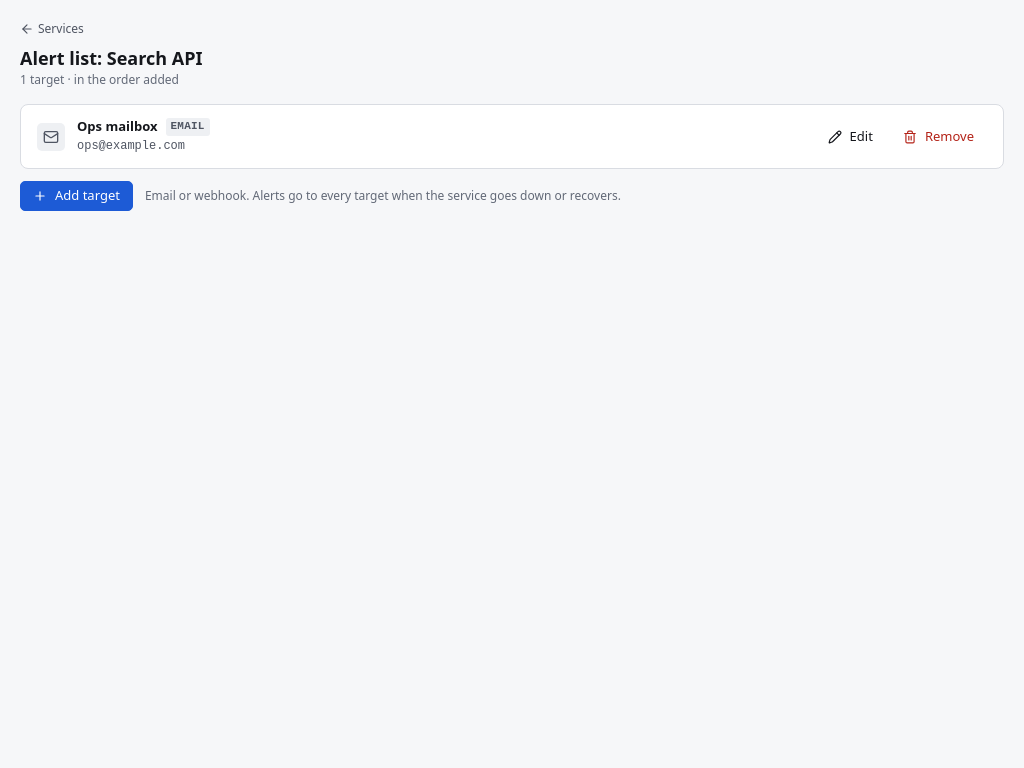
removing a target › after a 204 › shows the empty state and focuses its Add target when the only target goes
The width and height of the screenshot is (1024, 768).
Expected: the list named "Notification targets" is shown, [20,104,1004,169]
Click the button with aria-label "Remove Ops mailbox": click(938, 136) [890,122,987,152]
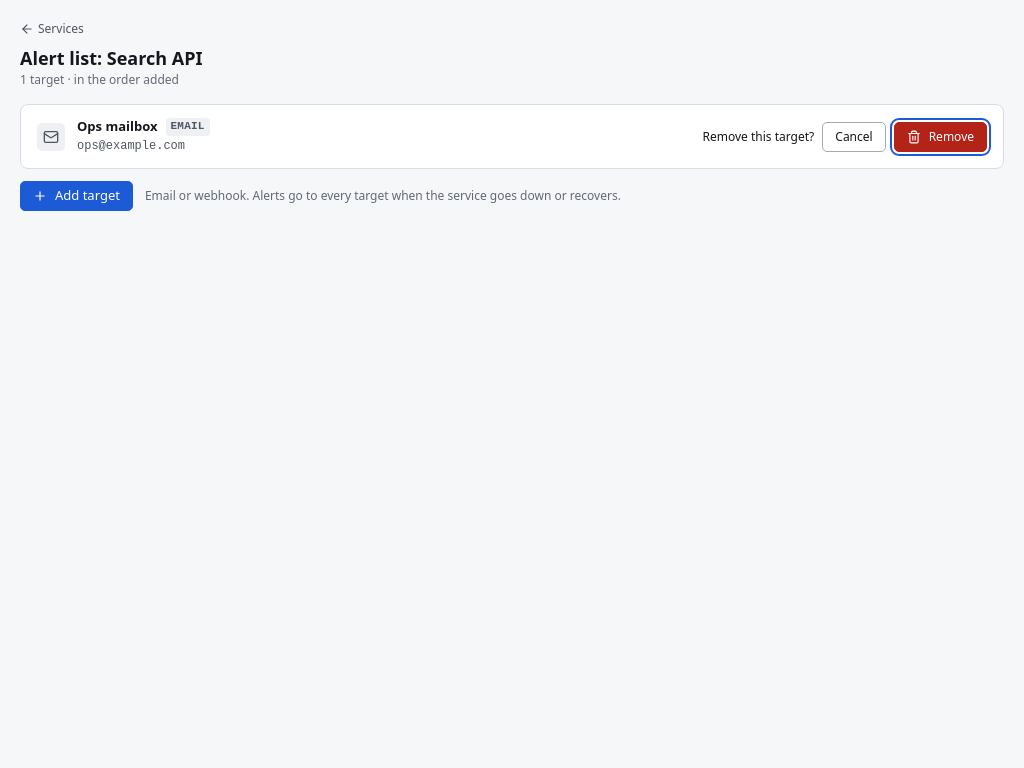
Click the button "Remove": click(940, 136) [894,122,987,152]
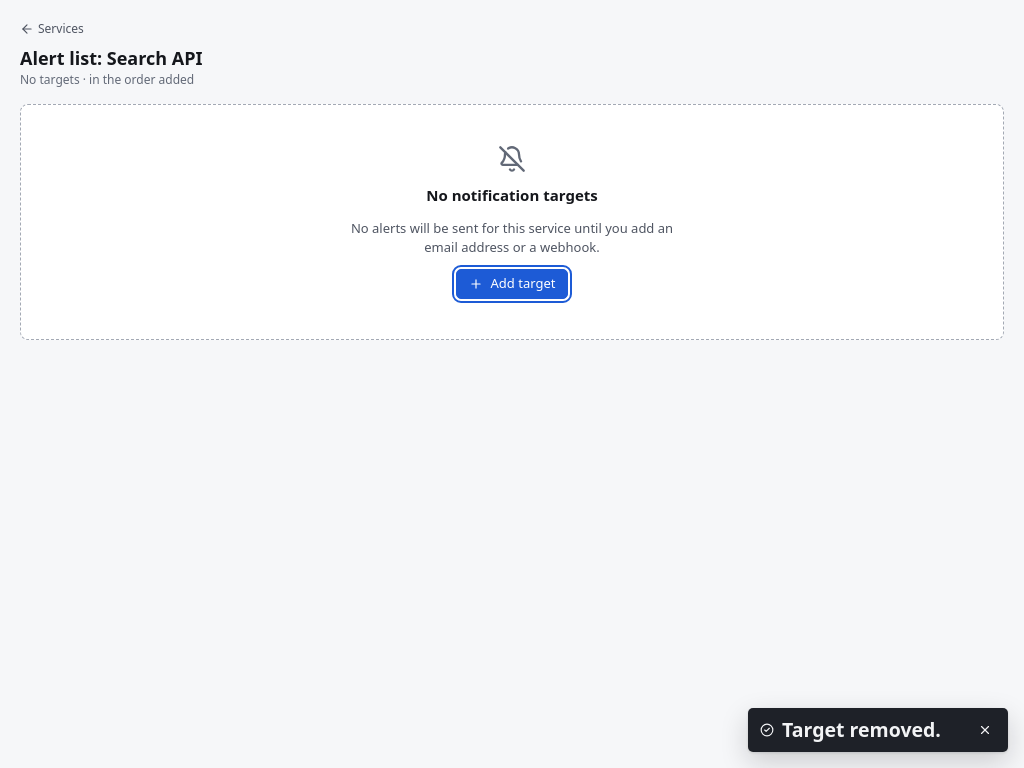
Expected: the heading "No notification targets" is shown, [426,185,598,207]
Expected: the text "No targets · in the order added" is shown, [20,71,194,88]
